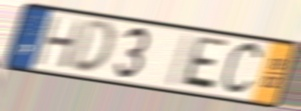3: (111, 25, 152, 83)
C: (218, 40, 266, 99)
D: (68, 20, 116, 77)
E: (178, 34, 231, 94)
H: (32, 14, 87, 71)
I: (162, 31, 196, 89)
